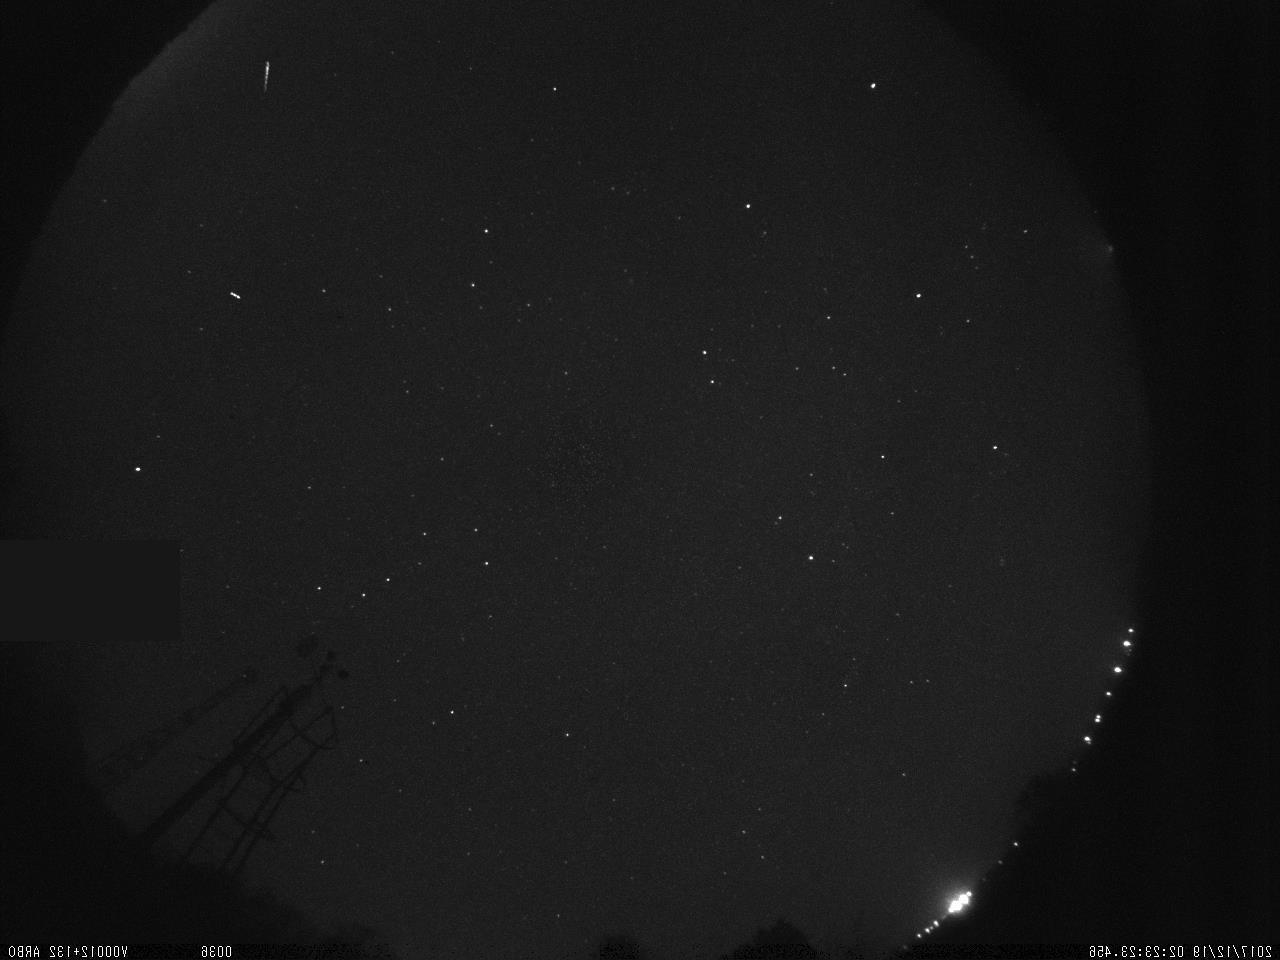meteor: (259, 57, 272, 93)
